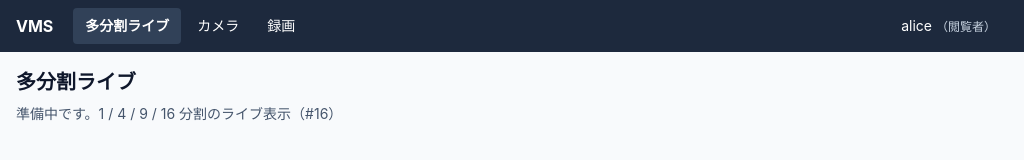
Test: layout › shows an error when logout fails
Check: the heading "多分割ライブ" is shown, box [16,70,136,94]
Click the heading "alice（閲覧者）" at (949, 26), box [901,17,996,34]
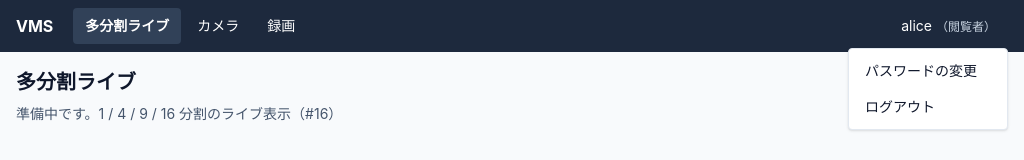
Click the button "ログアウト" at (928, 107), box [849,89,1007,125]
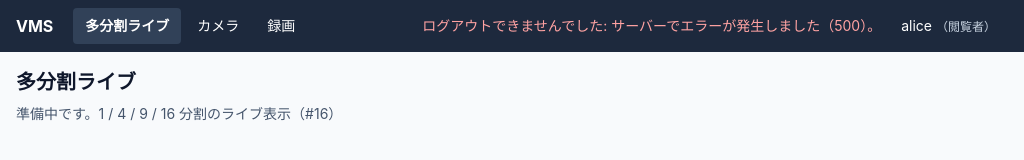
Check: the message shows "ログアウトできませんでした", box [422,17,611,34]
